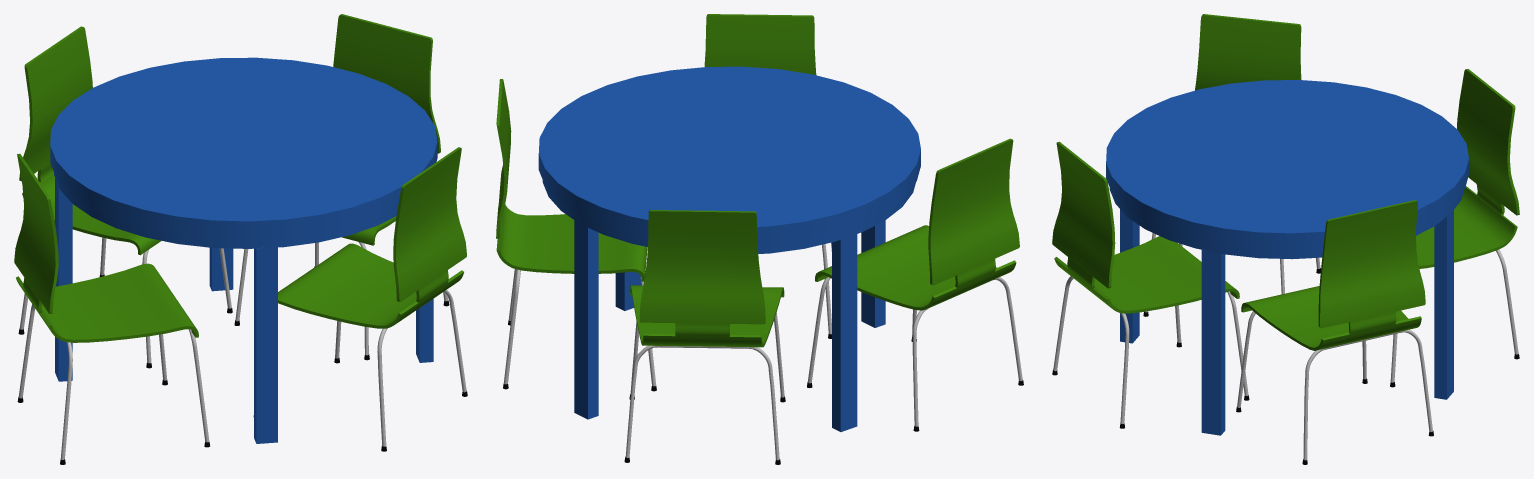
The model's file is IKEA-Round_Bjursta_Table_with_Chairs-3D.obj.
3 renders of one model, left to right at view 1: azimuth 30°, elevation 25°; view 2: azimuth 150°, elevation 25°; view 3: azimuth 270°, elevation 25°, orthographic. The views are drawn at different scales.
Visible parts, largest first — view 1: Cylinder01, Cylinder04, Cylinder07, Cylinder06, Cylinder05; view 2: Cylinder01, Cylinder06, Cylinder07, Cylinder05, Cylinder04; view 3: Cylinder01, Cylinder05, Cylinder04, Cylinder06, Cylinder07.
Part boxes in pixels (x1,y1,x2,y2): Cylinder01: (50, 57, 437, 443); Cylinder04: (253, 147, 467, 451); Cylinder07: (14, 153, 209, 464); Cylinder06: (18, 26, 232, 368); Cylinder05: (234, 14, 449, 360); Cylinder01: (538, 66, 920, 431); Cylinder06: (624, 210, 785, 464); Cylinder07: (807, 138, 1023, 431); Cylinder05: (496, 79, 656, 391); Cylinder04: (704, 14, 831, 338); Cylinder01: (1106, 80, 1468, 435); Cylinder05: (1236, 200, 1433, 464); Cylinder04: (1052, 141, 1249, 428); Cylinder06: (1390, 69, 1519, 387); Cylinder07: (1143, 14, 1320, 316).
Size of the model in its own units: 159 by 85.28 by 149.
